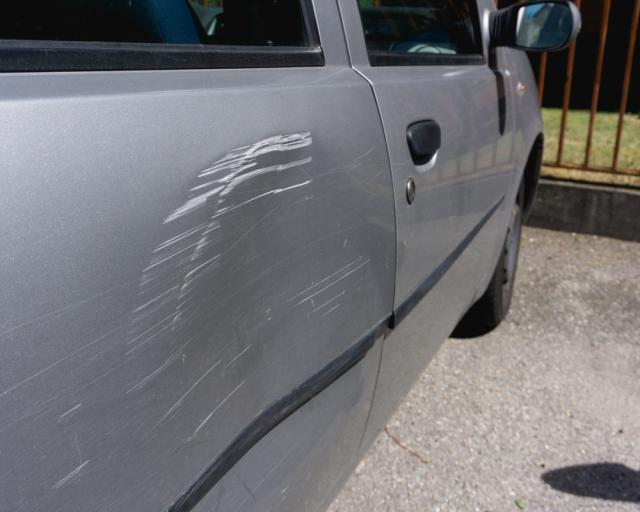dent: (177, 136, 386, 486)
scratch: (0, 139, 275, 505)
